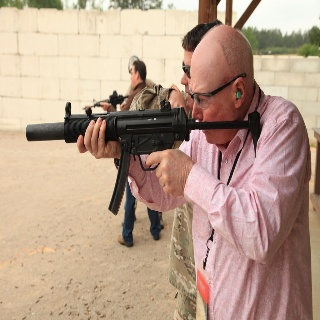rifle: (24, 101, 261, 216)
